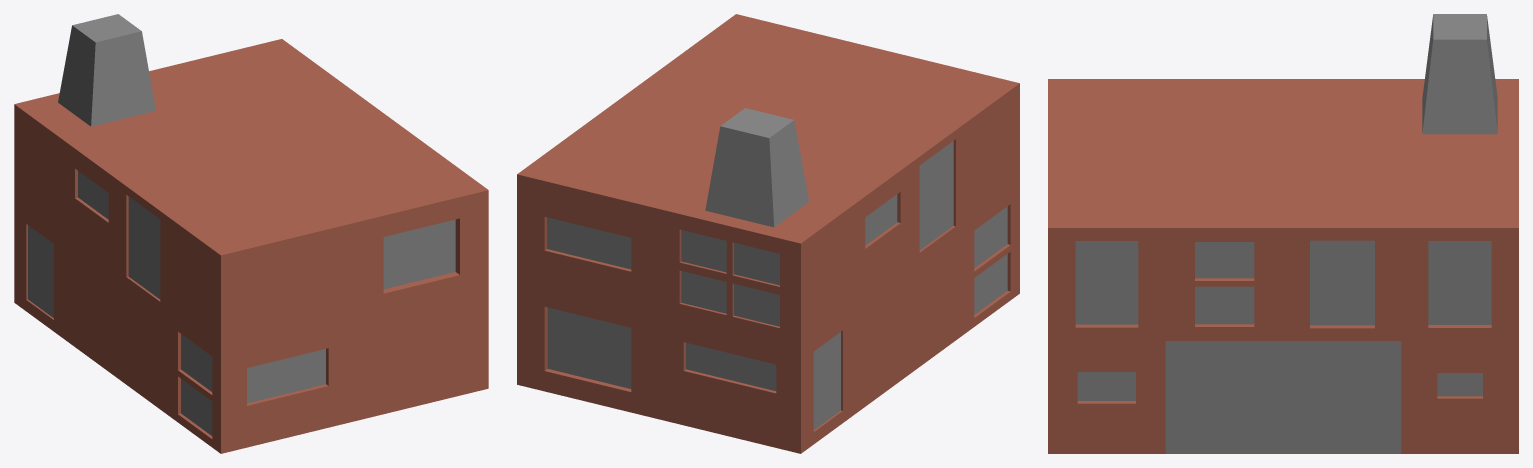
Rendered from buildingSmall.fbx.
The picture shows the model from 3 angles, left to right: view 1: azimuth 30°, elevation 25°; view 2: azimuth 150°, elevation 25°; view 3: azimuth 270°, elevation 25°; orthographic projection. The views are drawn at different scales.
Parts seen in each view (by area): view 1: buildingSmall2; view 2: buildingSmall2; view 3: buildingSmall2.
Part boxes in pixels (left/top/right/bottom): buildingSmall2: left=14, top=14, right=488, bottom=453; buildingSmall2: left=517, top=14, right=1019, bottom=453; buildingSmall2: left=1048, top=14, right=1518, bottom=453.
Bounding box in the file's own units: 1625 × 1606 × 2173.
2 materials, 2 textured.
